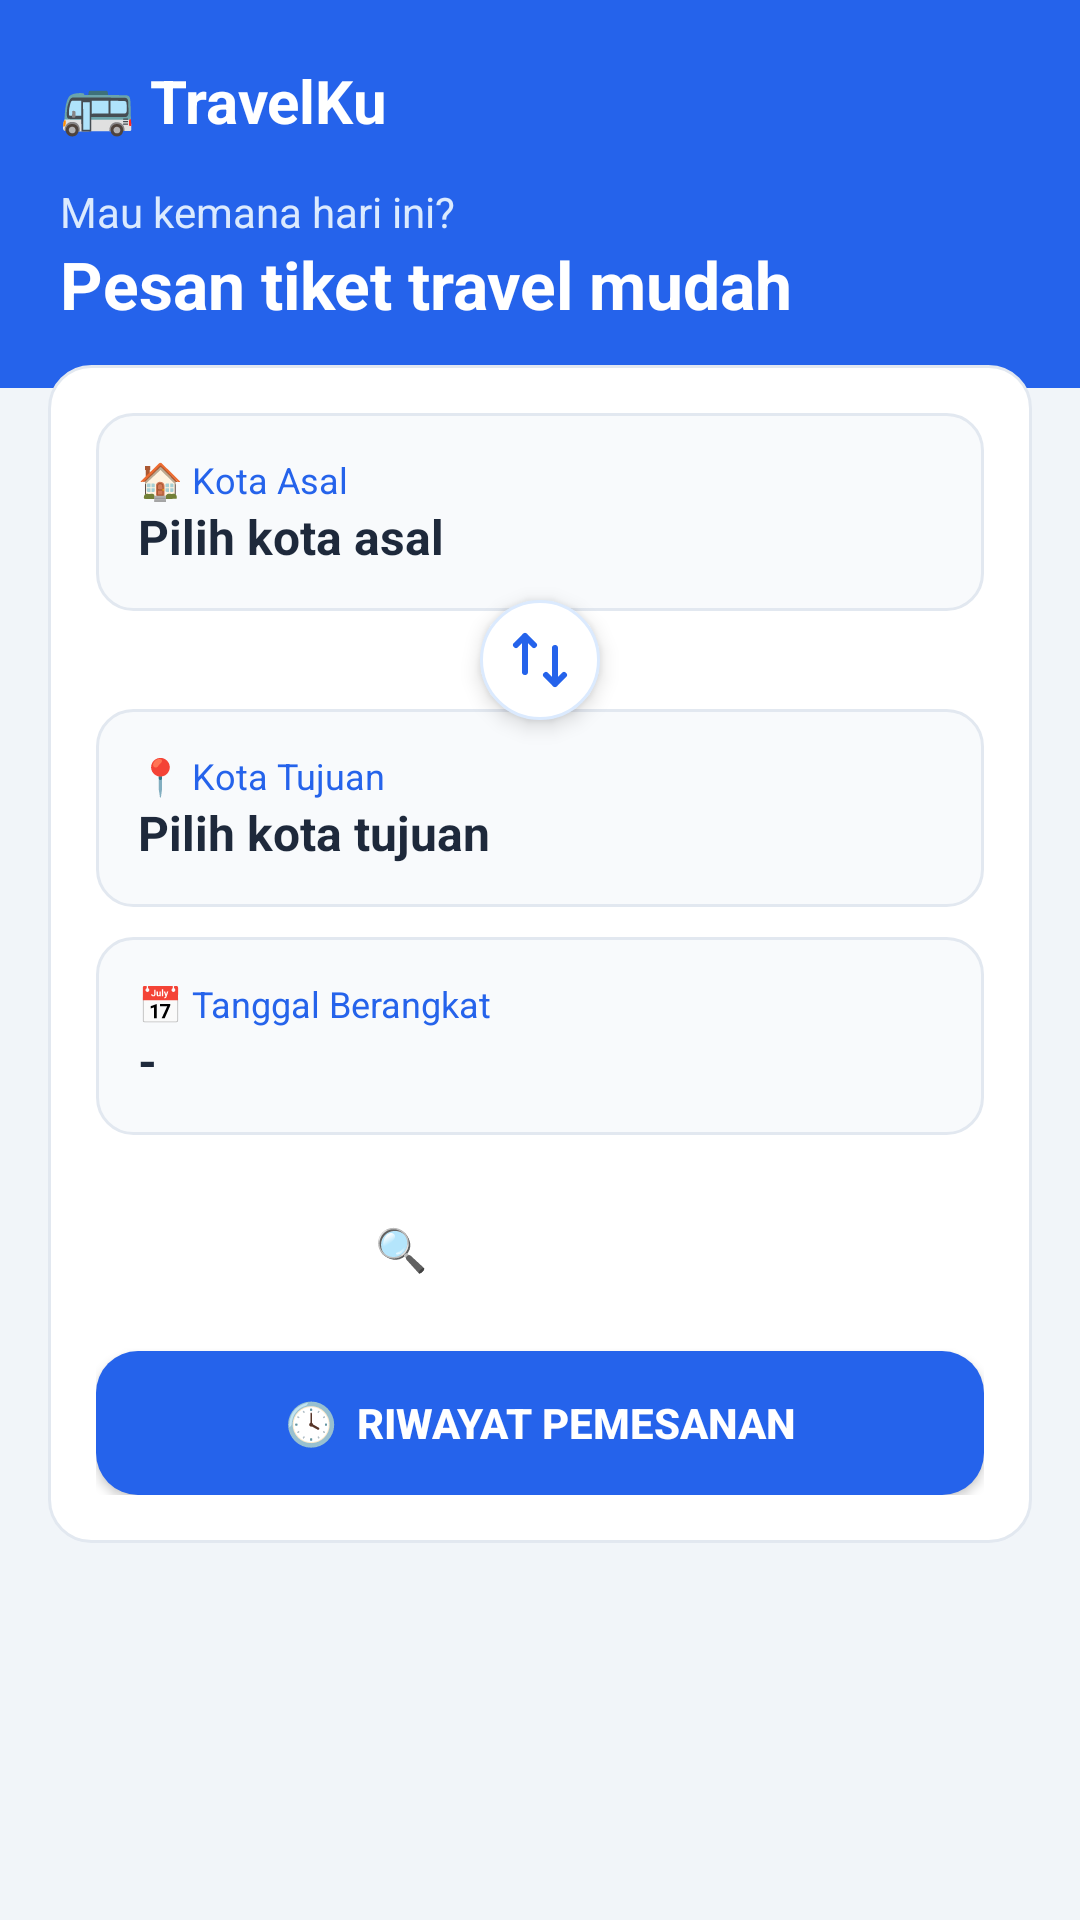

Icons on this 1080px x 1920px Android screen, each with its box as (x1, y1, x2, y2):
swap vert: (480, 600, 600, 720)
